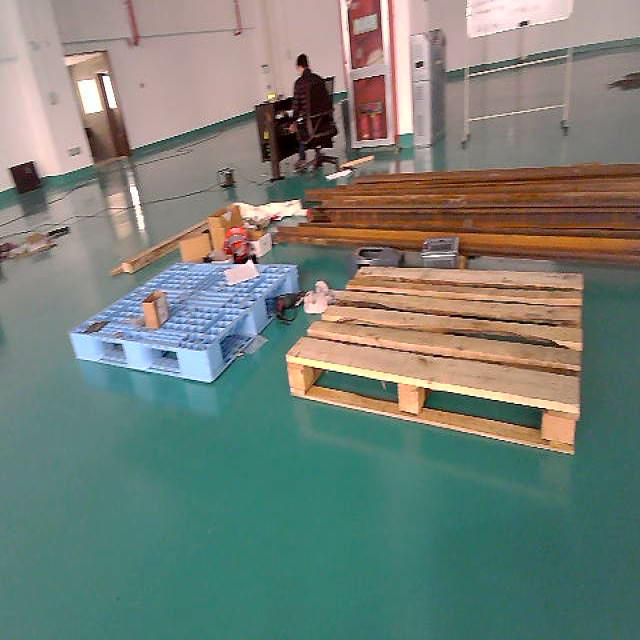euro: (287, 259, 584, 457)
